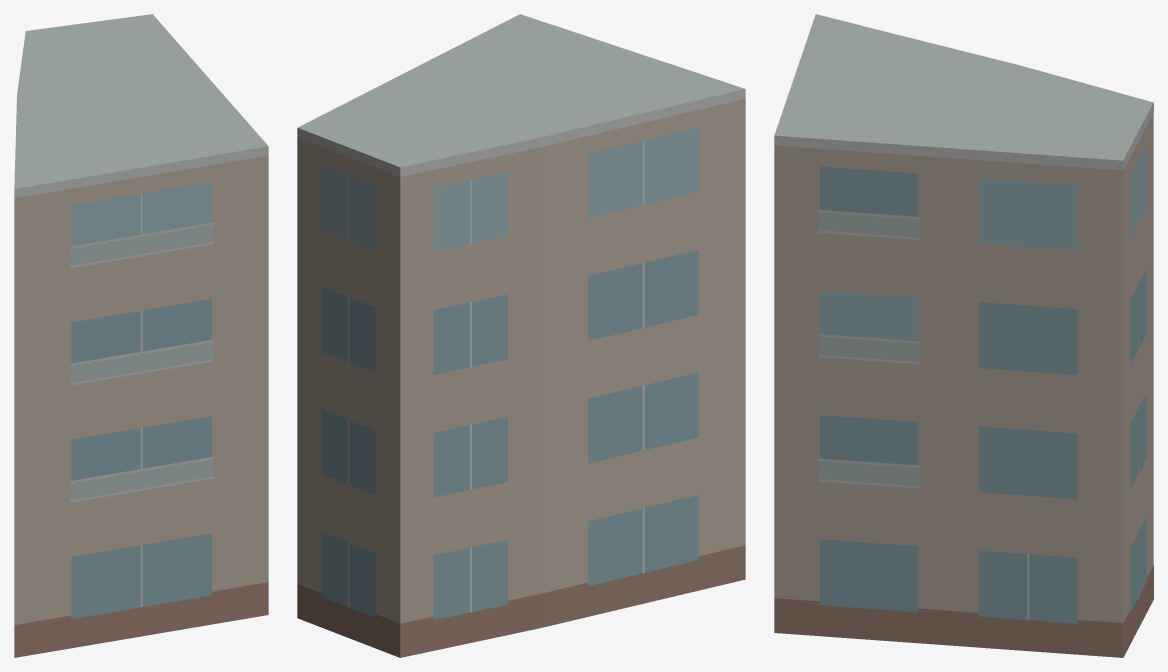
File: survey-upis-32734772.glb
3 views of the same model, side by side, from view 1: azimuth 30°, elevation 25°; view 2: azimuth 150°, elevation 25°; view 3: azimuth 270°, elevation 25° (orthographic). The views are drawn at different scales.
Visible parts, largest first — view 1: survey-upis-32734772.tmp; view 2: survey-upis-32734772.tmp; view 3: survey-upis-32734772.tmp.
Part boxes in pixels (x1,y1,x2,y2): survey-upis-32734772.tmp: (14, 14, 268, 657); survey-upis-32734772.tmp: (297, 14, 745, 657); survey-upis-32734772.tmp: (774, 14, 1153, 657).
Size of the model in its own units: 7.85 by 12.4 by 8.59.
